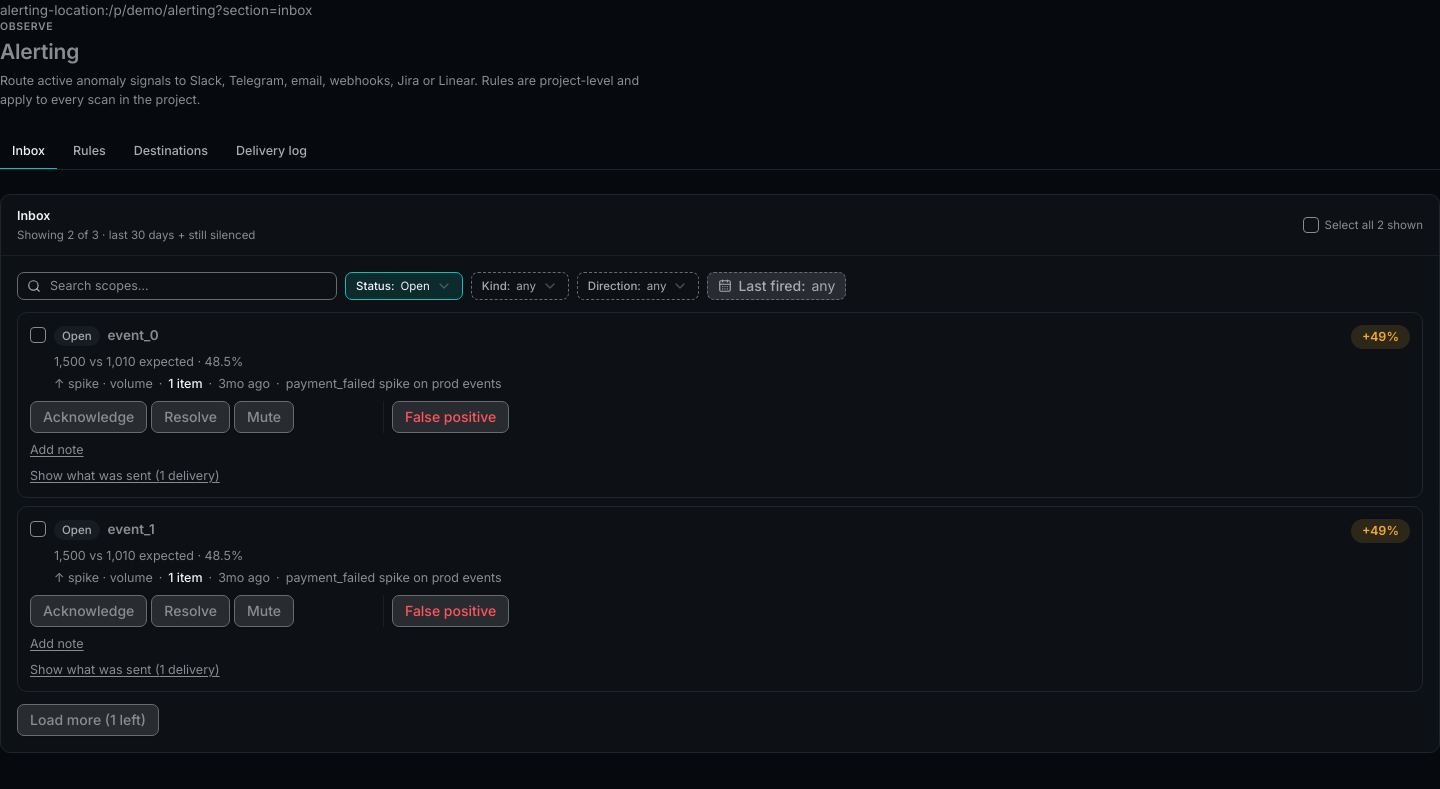
Test: ProjectAlertingTab — the Inbox is a queue you can get to the bottom of (tripl-oxkt.1) › loads the rest of the queue instead of replacing what is on screen
Expected: the text "Showing 2 of 3 · last 30 days + still silenced" is shown, [17,228,255,242]
Click the button "Load more (1 left)" at (88, 720), box [17,704,159,736]
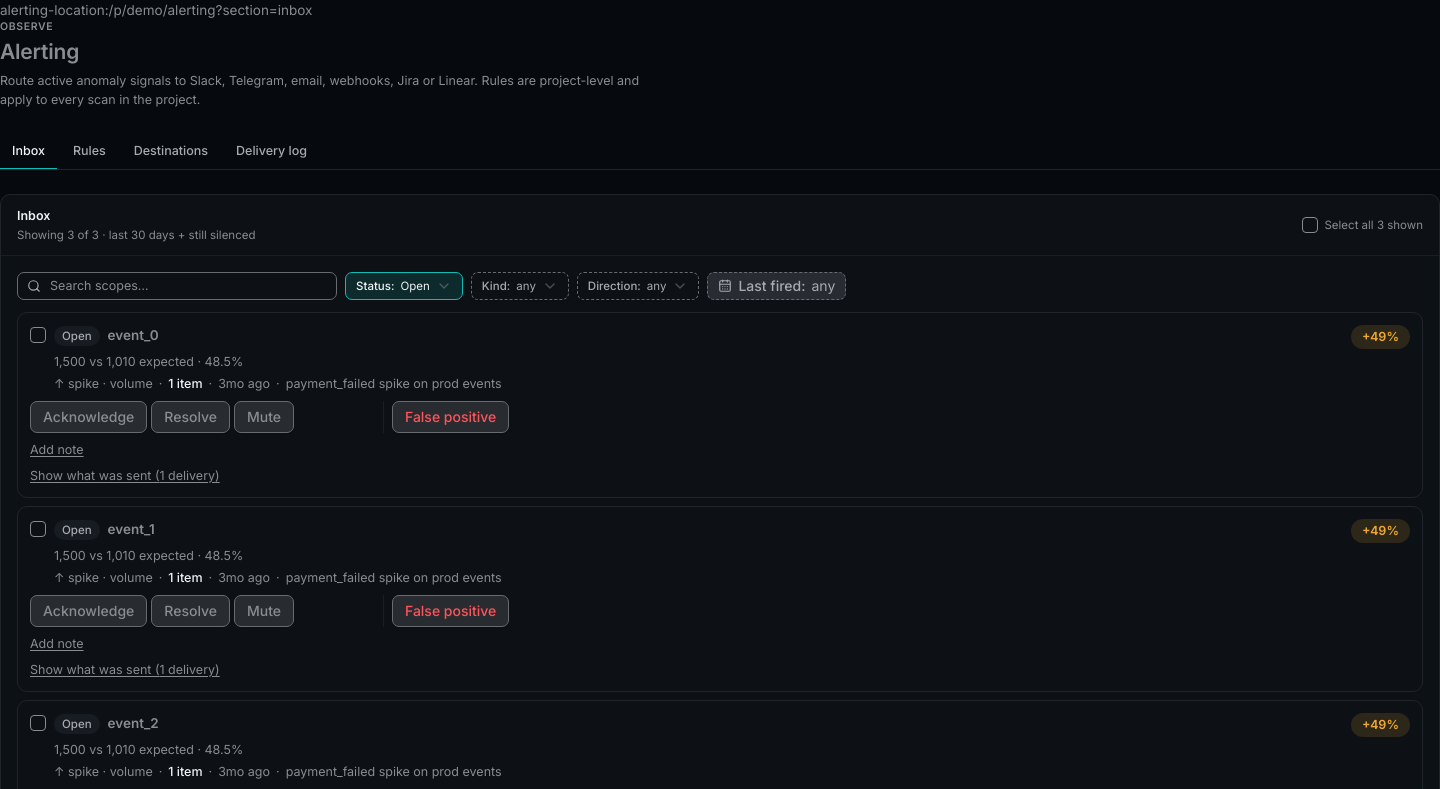
Result: the text "Showing 3 of 3 · last 30 days + still silenced" is shown at [17,228,256,242]
Result: the link "event_2" is shown at [108,714,159,730]
Result: the button "Load more" is gone
